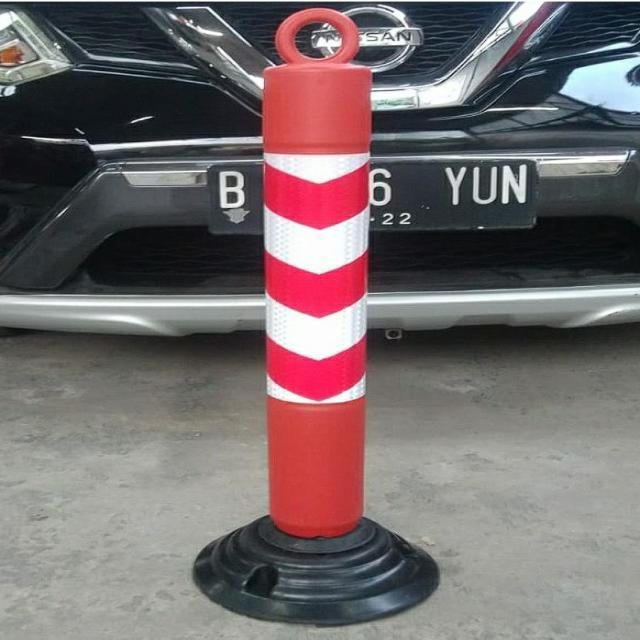Bollard: (253, 10, 374, 541)
